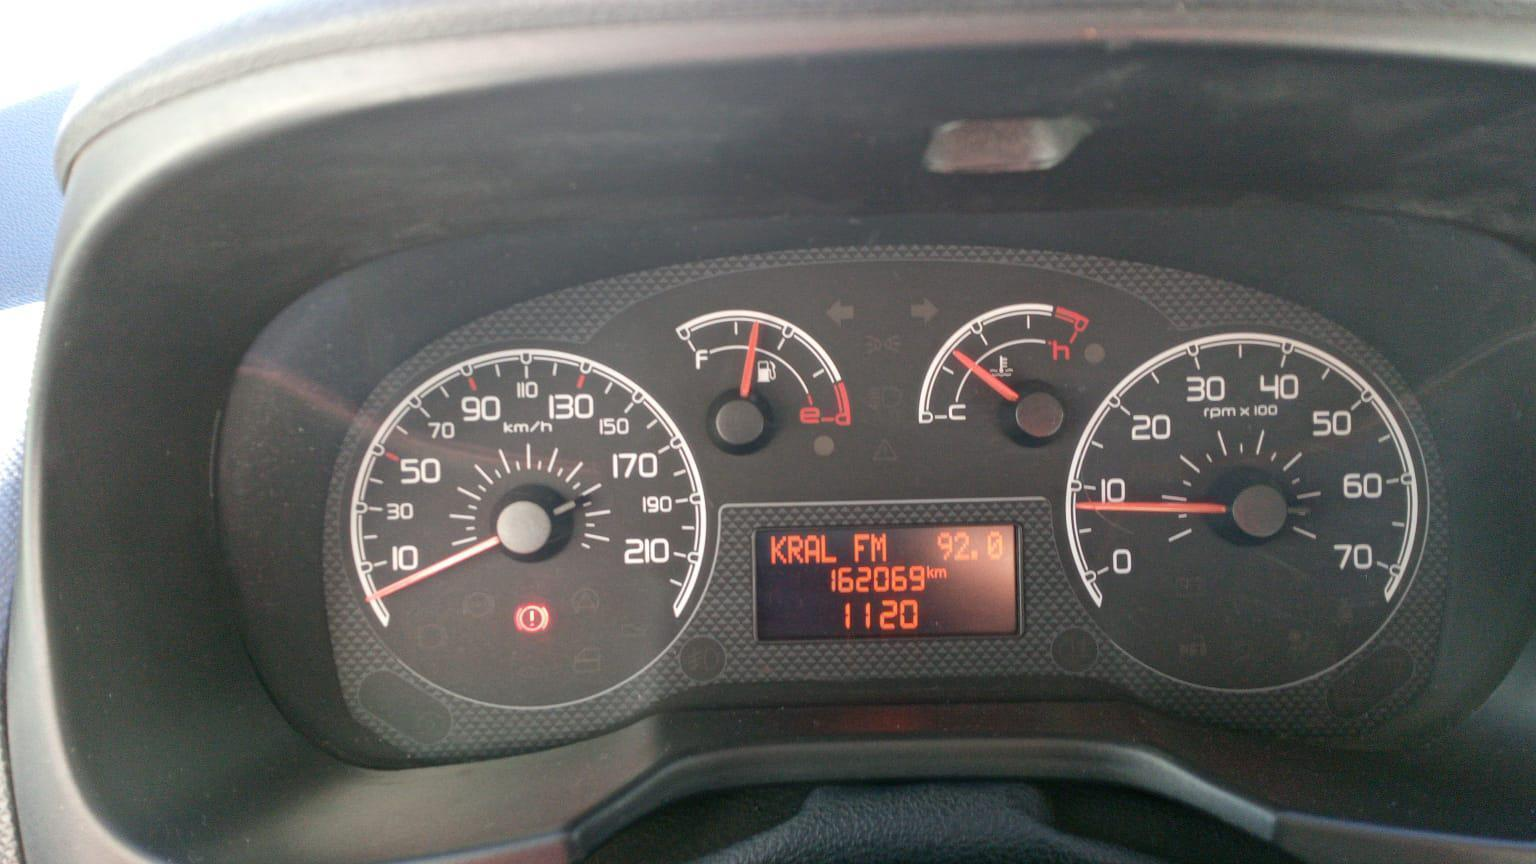,: (971, 548, 979, 560)
0: (899, 598, 919, 630), (986, 530, 1003, 559), (872, 567, 890, 592)
1: (863, 601, 871, 630), (843, 602, 851, 630), (829, 568, 837, 593)
2: (878, 598, 898, 630), (953, 530, 969, 560), (855, 567, 871, 593)
6: (837, 567, 855, 593), (890, 565, 907, 592)
9: (936, 532, 953, 561), (908, 564, 925, 592)
X: (820, 533, 838, 564), (769, 534, 787, 564), (870, 532, 887, 563), (803, 533, 820, 564), (853, 532, 869, 563), (787, 534, 803, 564), (934, 567, 947, 579), (926, 567, 934, 579)
odometer: (747, 519, 1026, 645)
